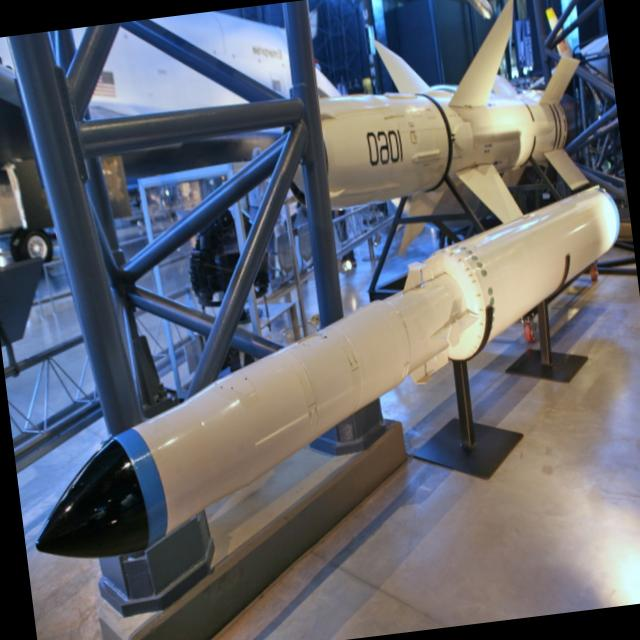rocket: (0, 35, 633, 559)
